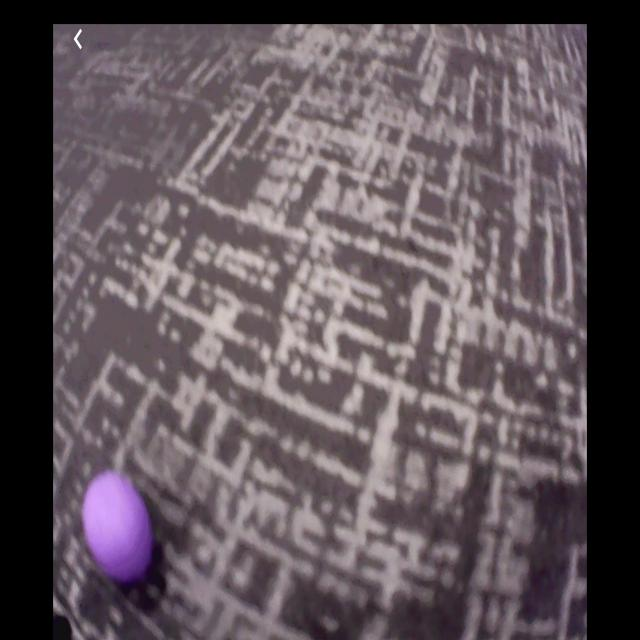ball: (82, 471, 155, 579)
